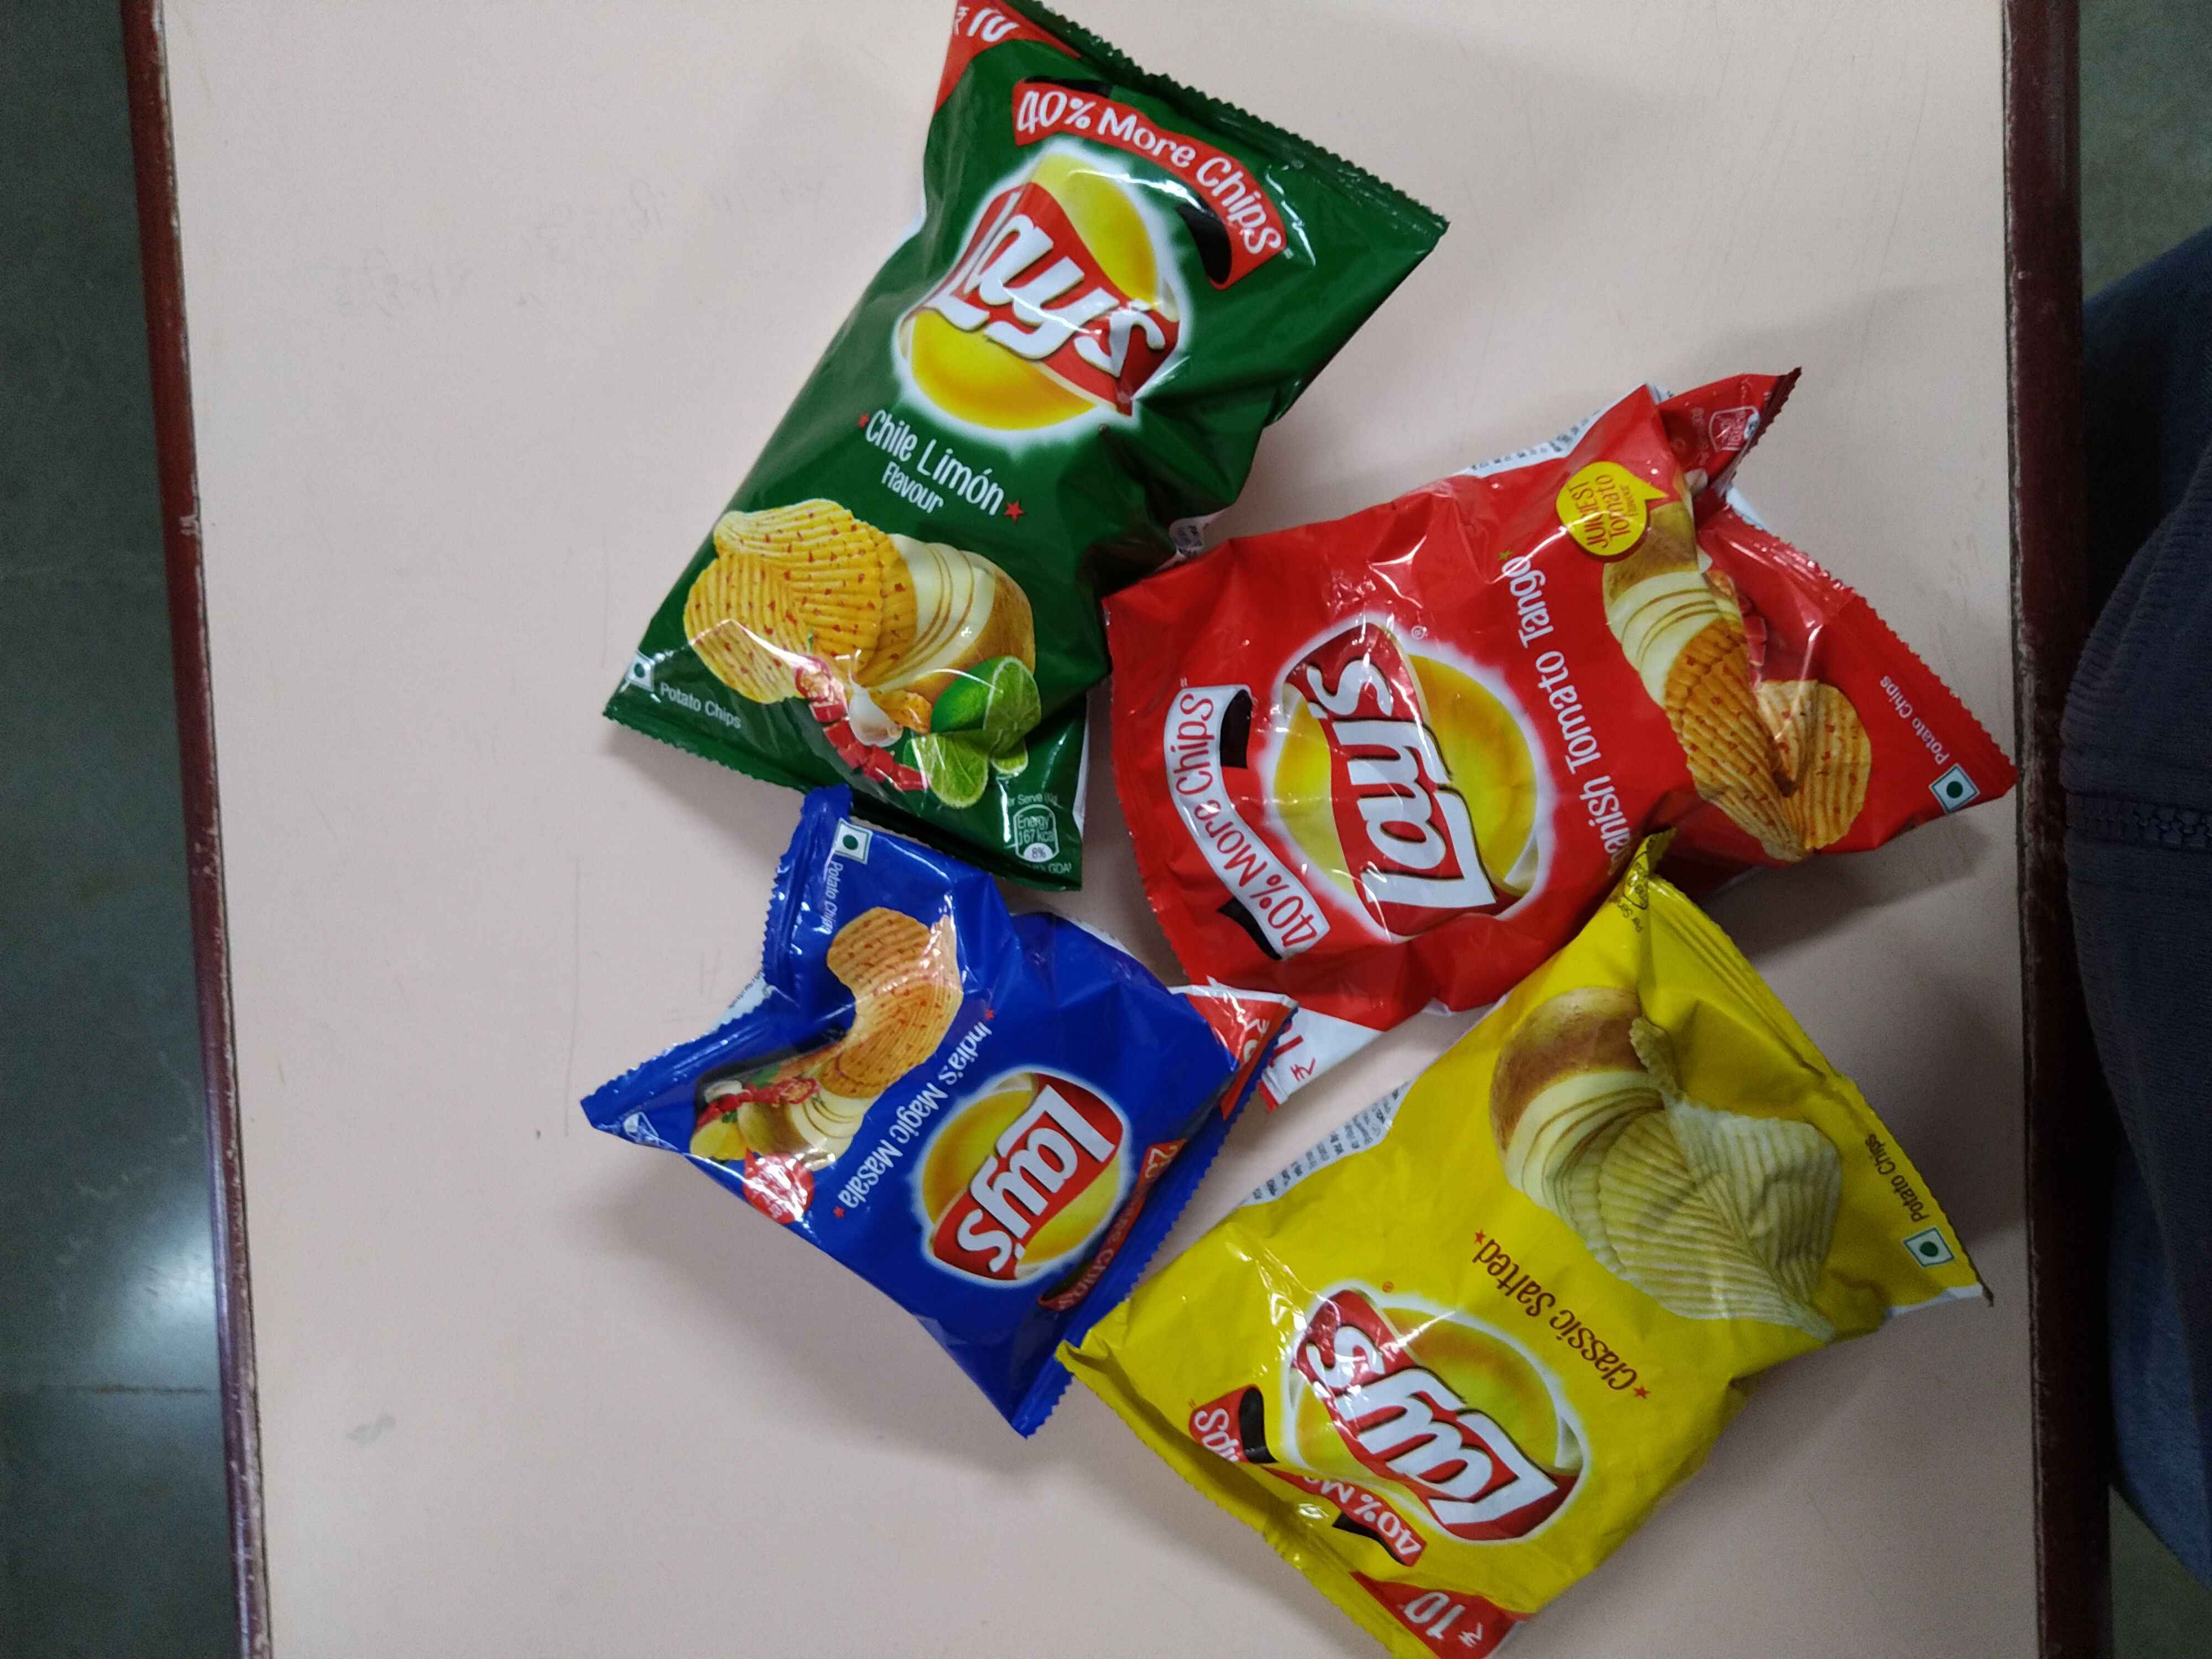Lays: (1224, 599, 1568, 934), (1271, 1298, 1616, 1570), (907, 157, 1186, 464), (878, 1066, 1163, 1253)
